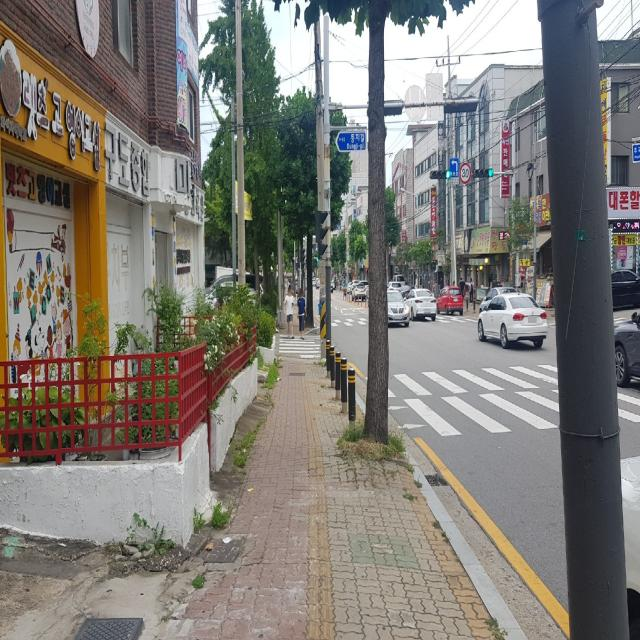횡단보도: (394, 366, 560, 432), (279, 335, 321, 358)
